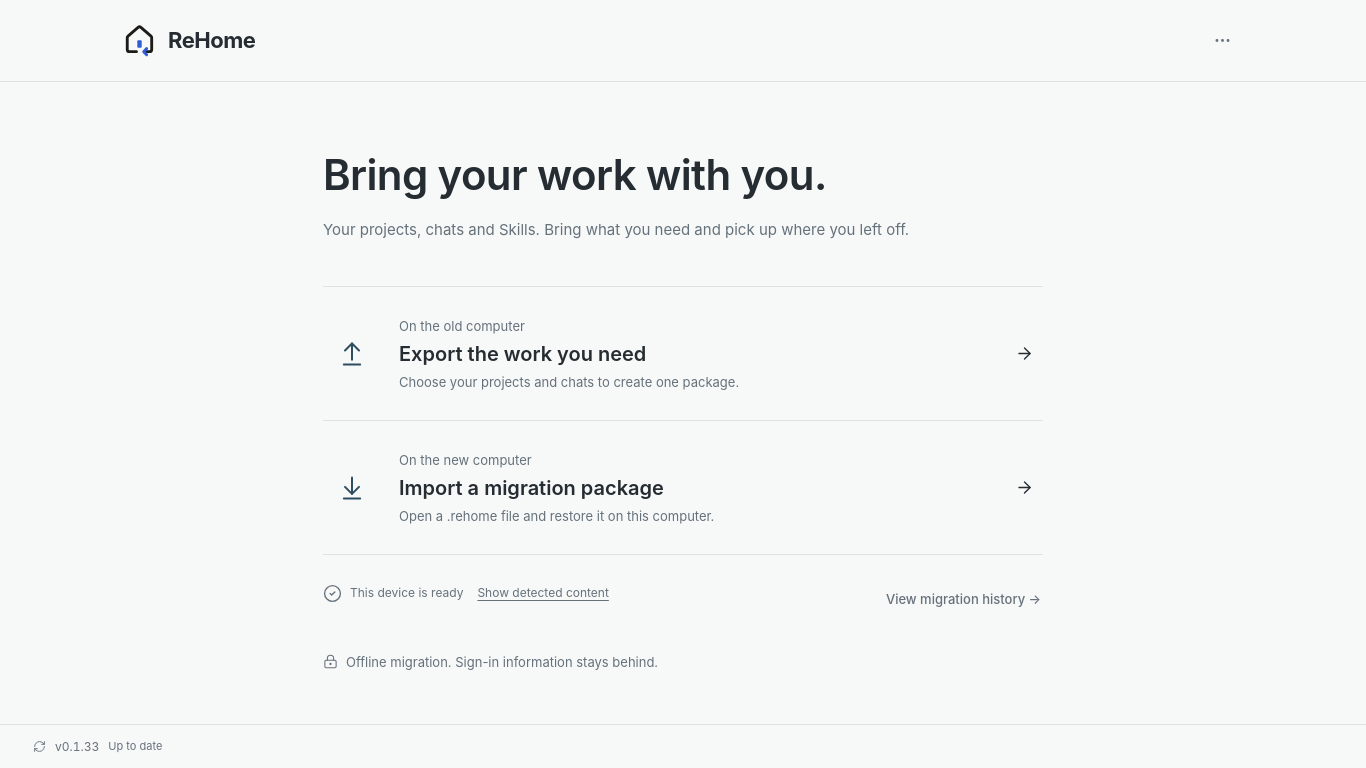
Test case: Compressed rollout recognition › uses a singular English notice and derives recognition from older inventory shapes
Click the button with aria-label "Go to Export".
click(462, 326)  # box [323,288,1043,422]
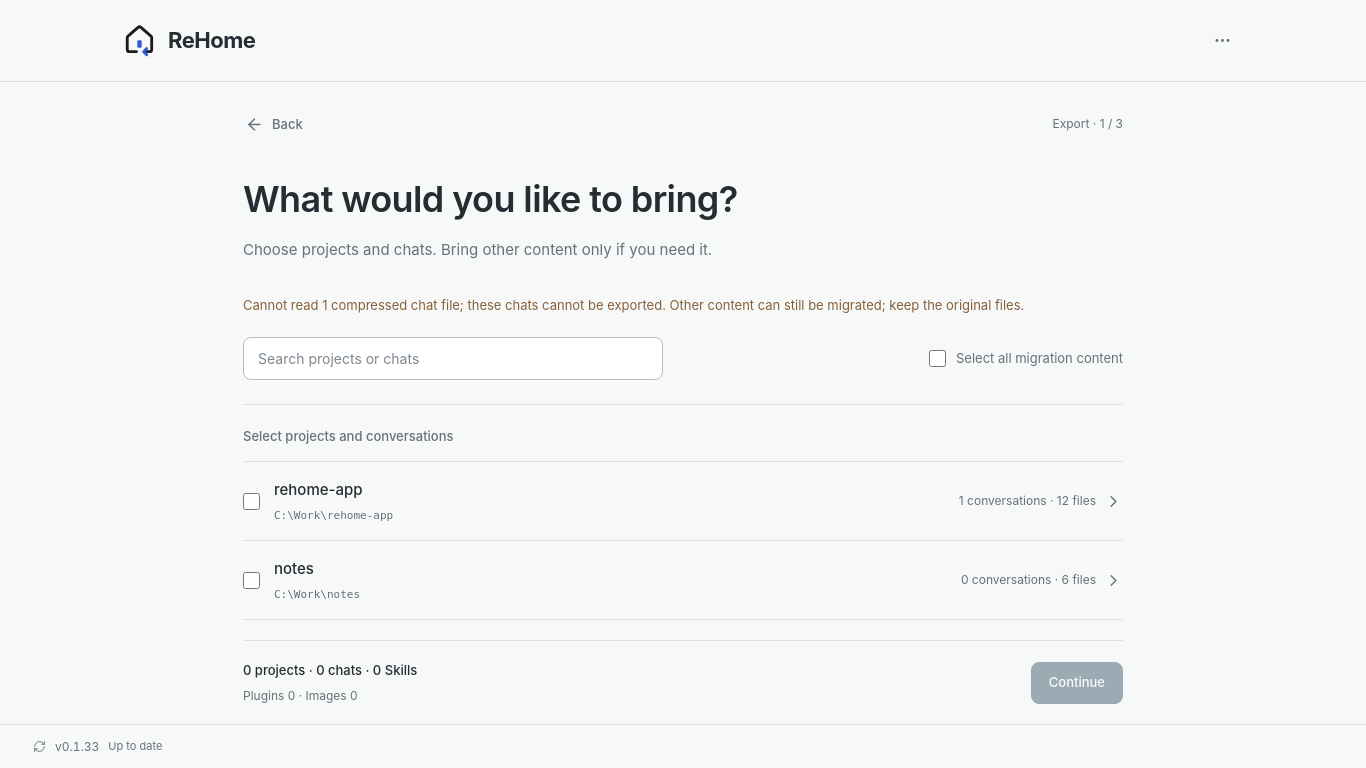
Expected: the text "Cannot read 1 compressed chat file;" is shown, [243,297,1024,313]
